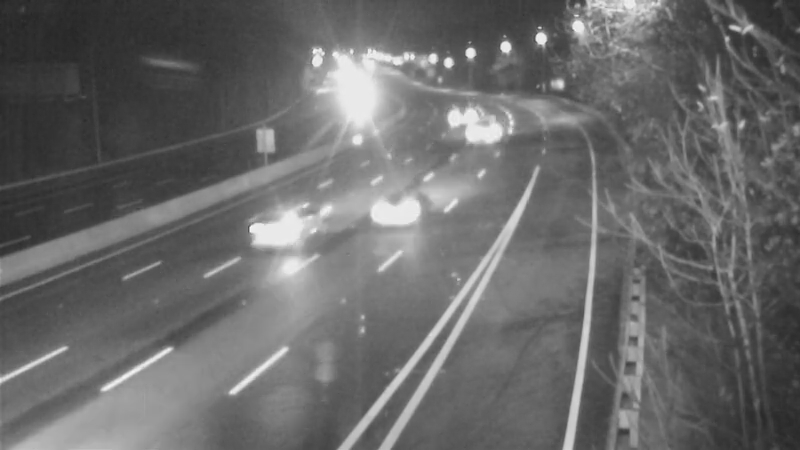vehicle: (360, 171, 440, 251), (243, 188, 323, 268), (432, 89, 482, 139), (457, 108, 507, 158)
